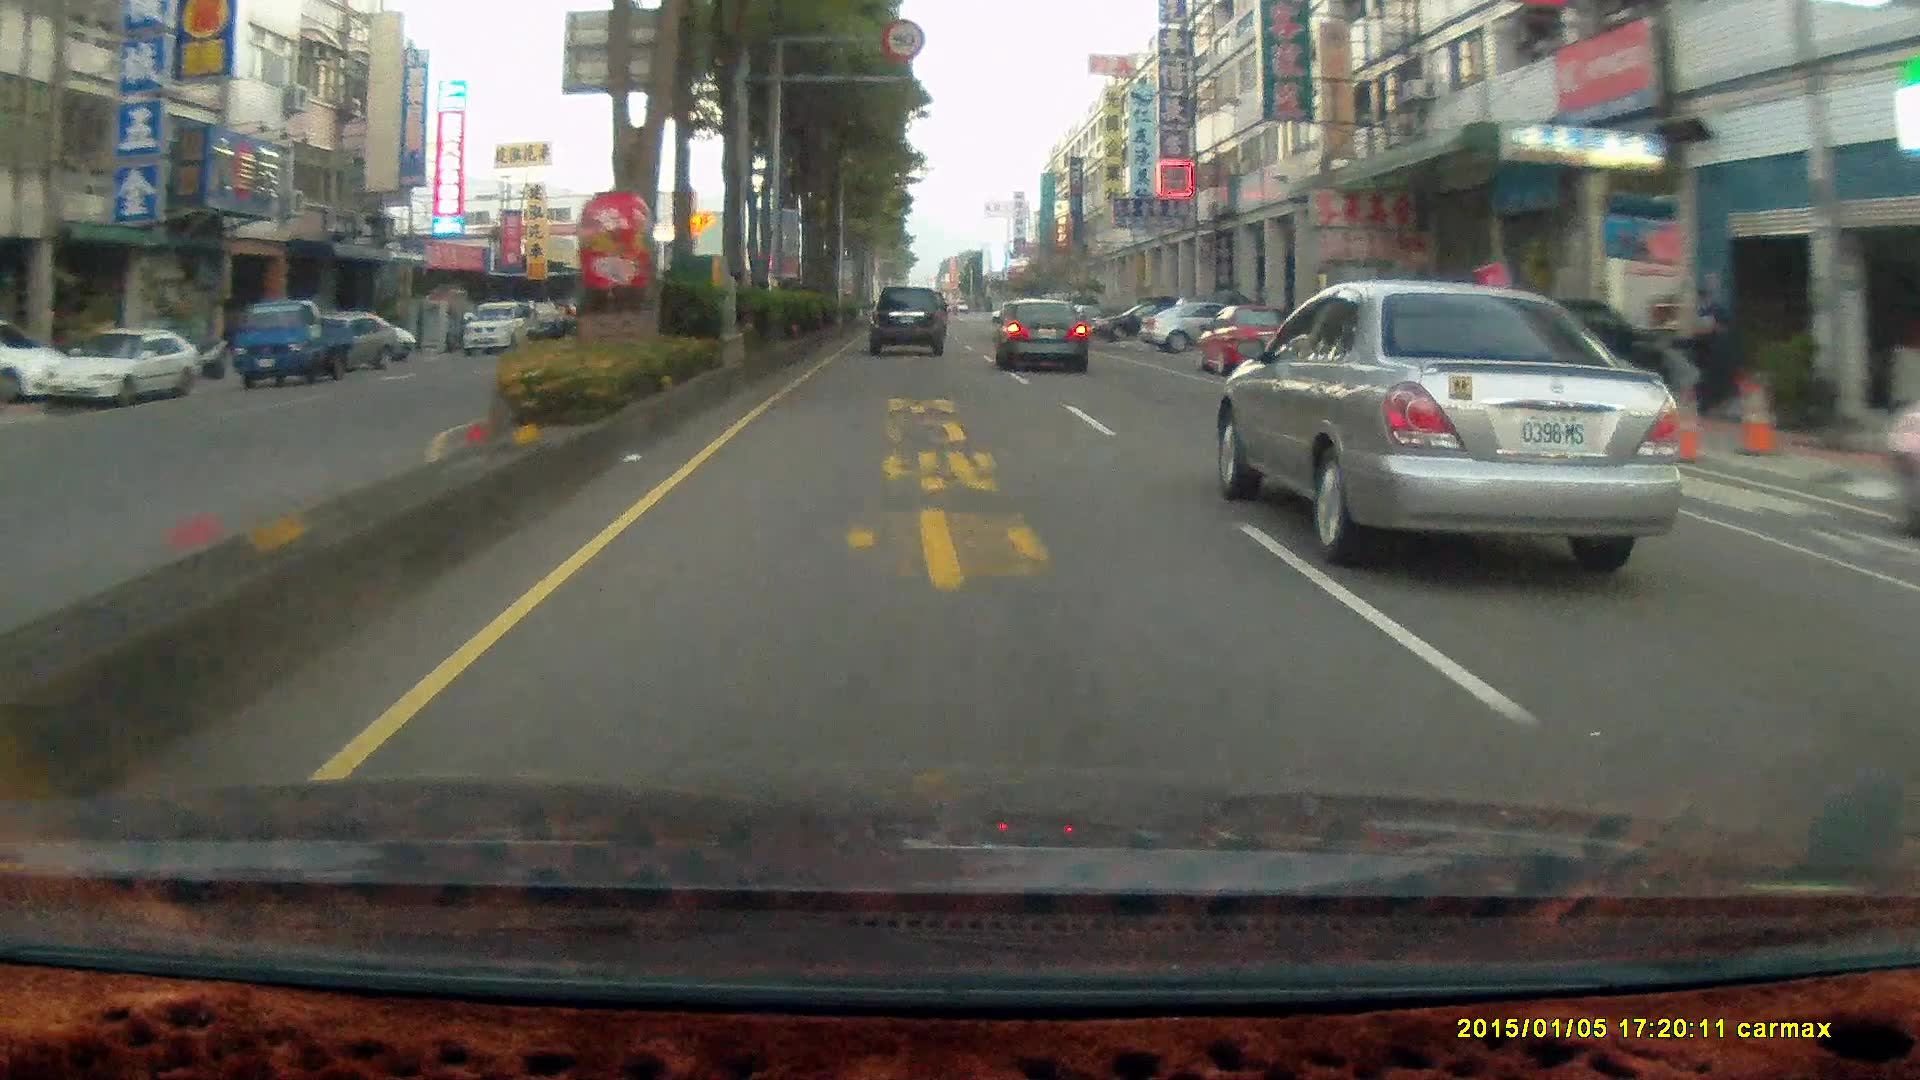vehicle: (1226, 286, 1706, 568), (1448, 291, 1667, 418), (36, 327, 198, 407), (229, 305, 364, 389), (47, 328, 196, 404), (231, 297, 353, 386), (1203, 310, 1308, 386), (992, 297, 1088, 375), (1193, 305, 1298, 376), (996, 301, 1092, 377), (1135, 298, 1265, 353), (285, 313, 396, 371), (868, 285, 949, 360), (865, 284, 945, 353), (0, 324, 69, 402), (1884, 400, 1920, 539), (1093, 299, 1188, 340), (460, 301, 531, 353)
